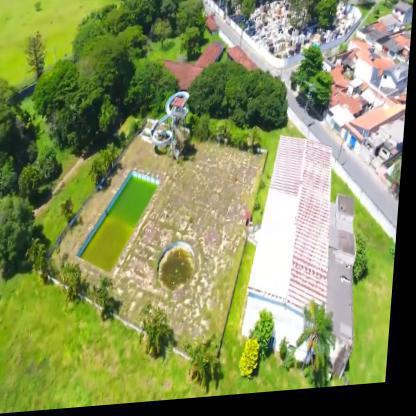agua: (108, 189, 161, 248), (161, 244, 203, 294)
